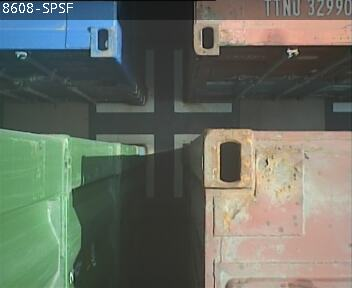groundmarker_1: (96, 51, 233, 112), (94, 134, 200, 196)
